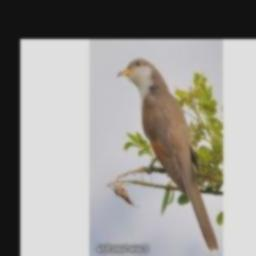Cuckoo: (118, 58, 219, 251)
